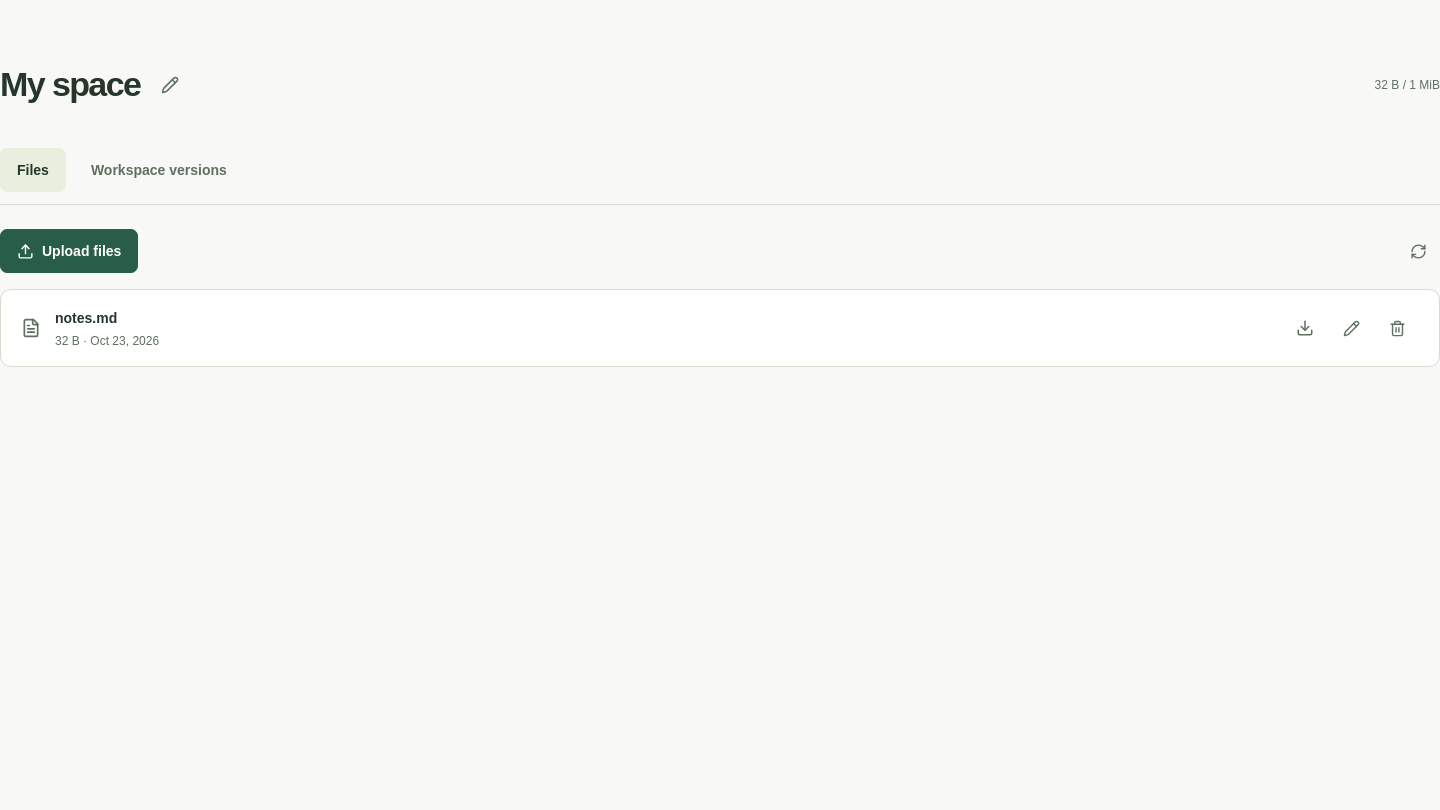
Test case: space user journeys › renames space and files without changing their immutable identity
The image size is (1440, 810).
Click the button named "Rename space".
click(170, 84)  # box [148, 62, 192, 106]
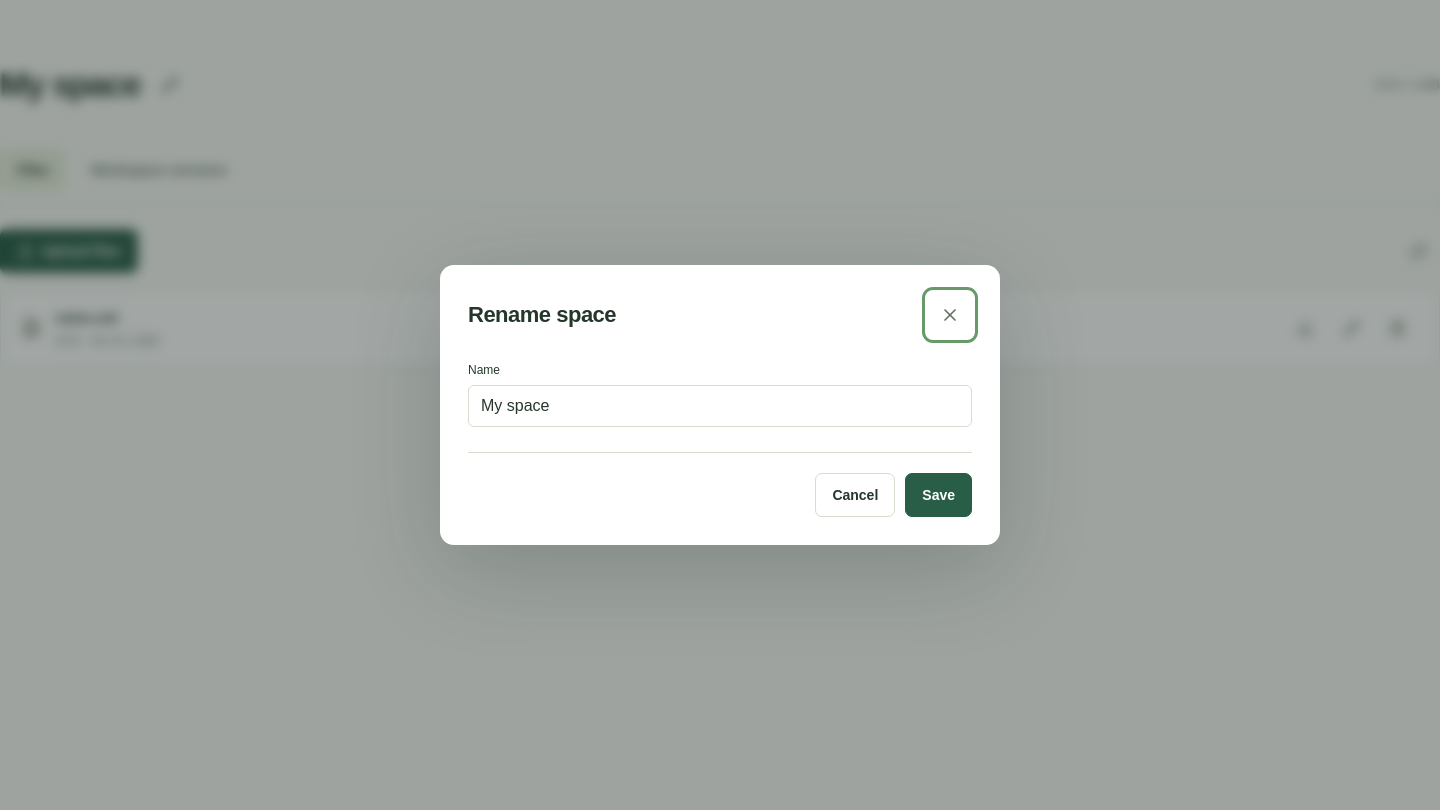
Replace the text in the field labelled "Name" with "Research" at {"x": 720, "y": 406}, box [468, 385, 972, 427]
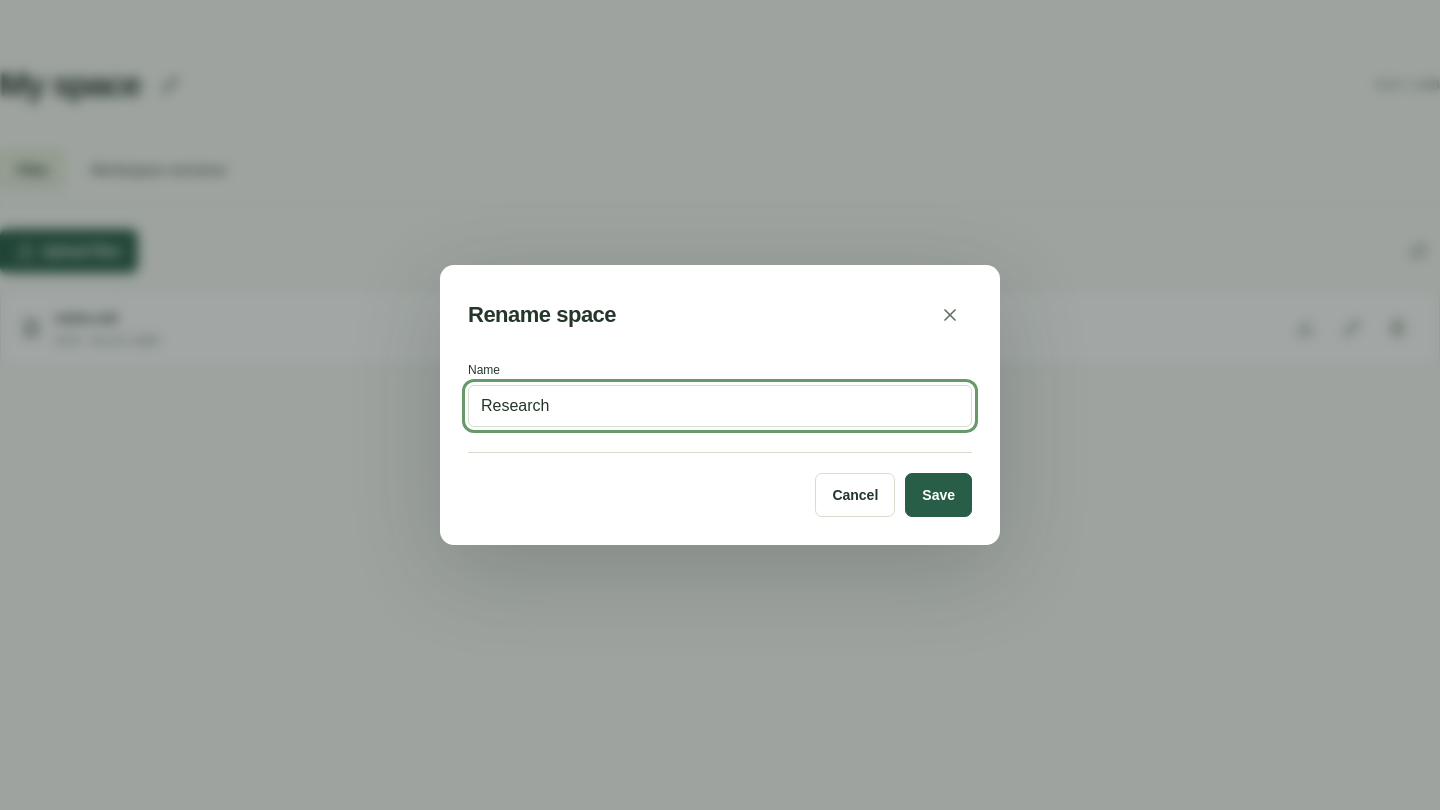
Click the button "Save".
click(939, 495)  # box [905, 473, 972, 517]
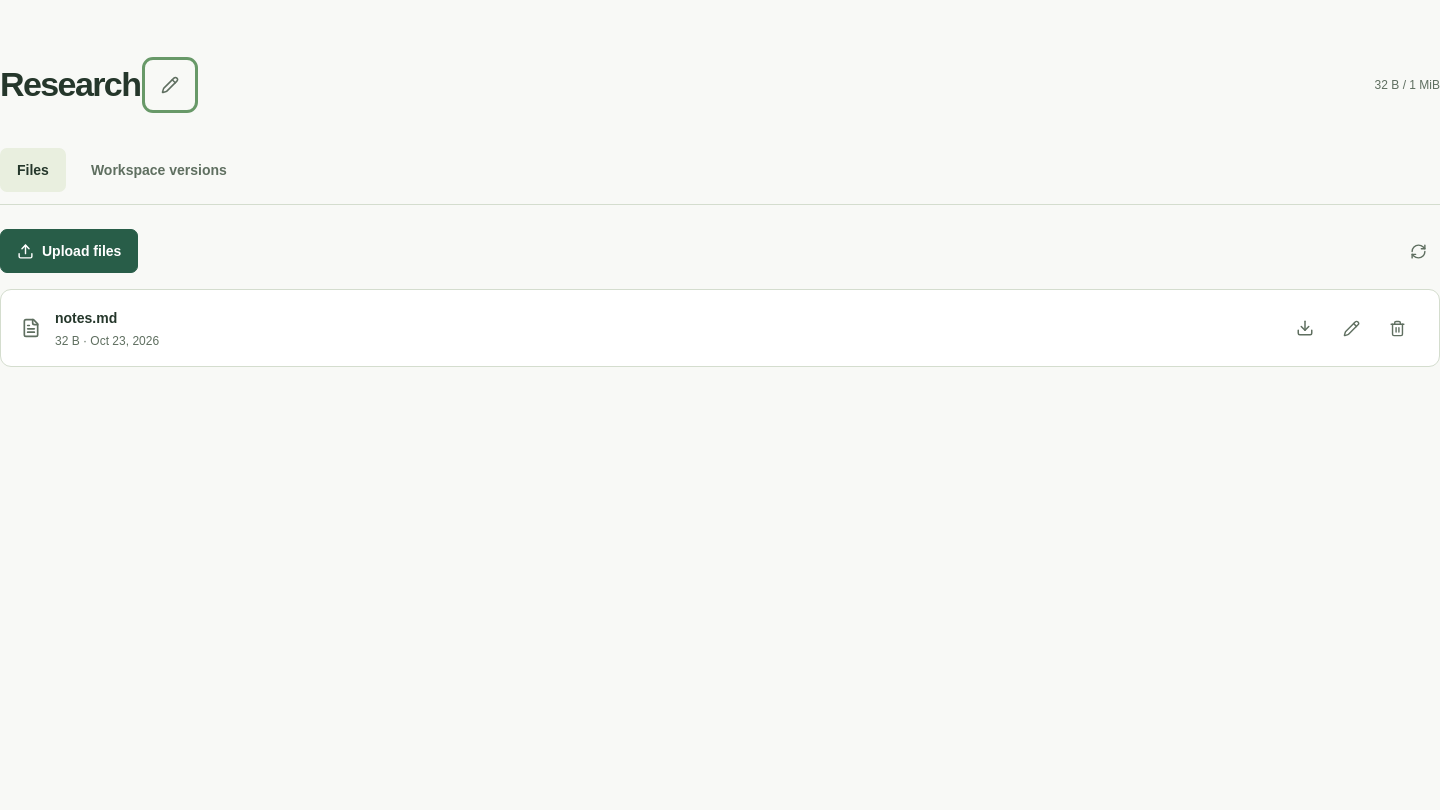
Expected: the heading "Research" is shown, [0, 65, 140, 104]
Click the button named "Rename notes.md".
click(1351, 328)  # box [1329, 306, 1373, 350]
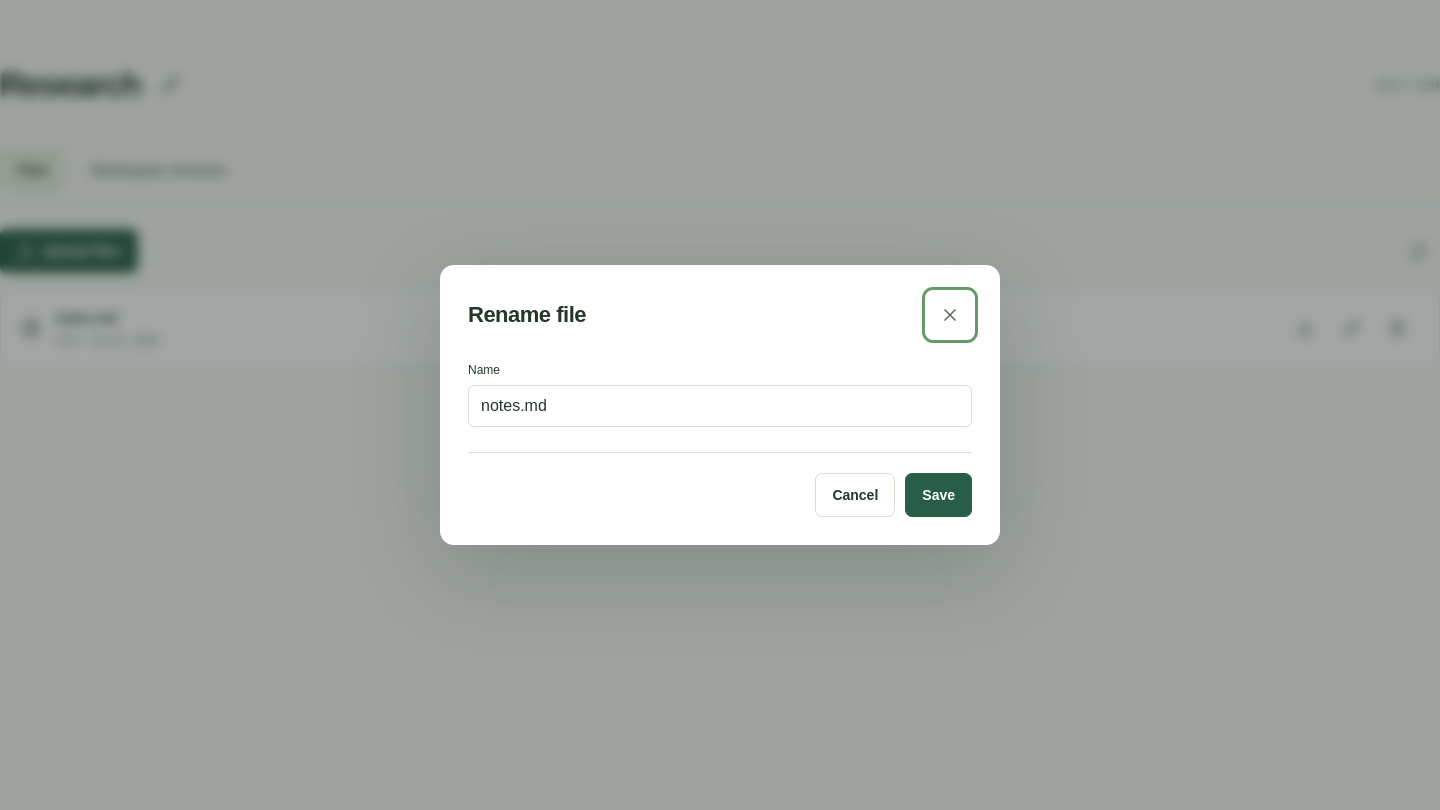
Replace the text in the field labelled "Name" with "renamed.md" at {"x": 720, "y": 406}, box [468, 385, 972, 427]
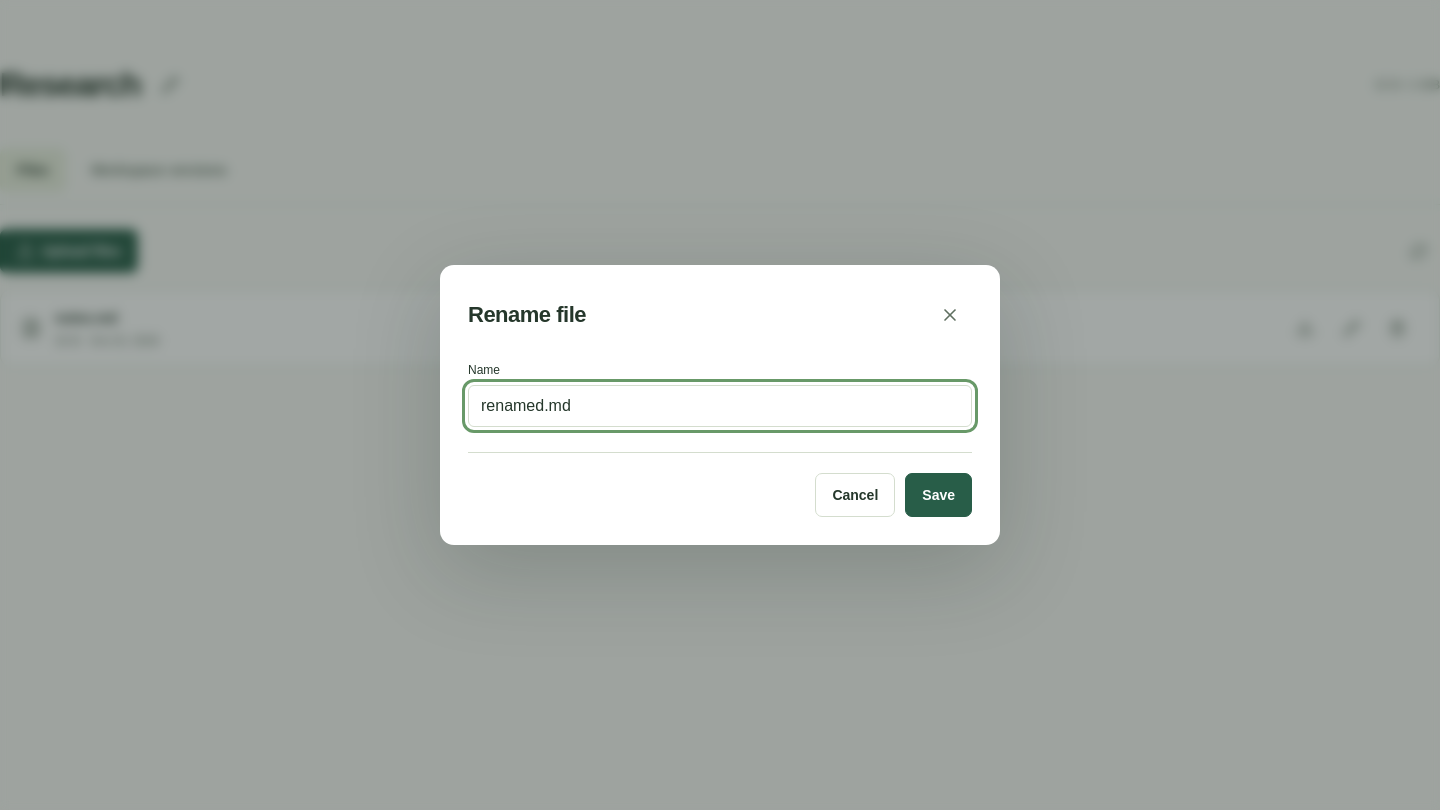
Click the button "Save".
click(939, 495)  # box [905, 473, 972, 517]
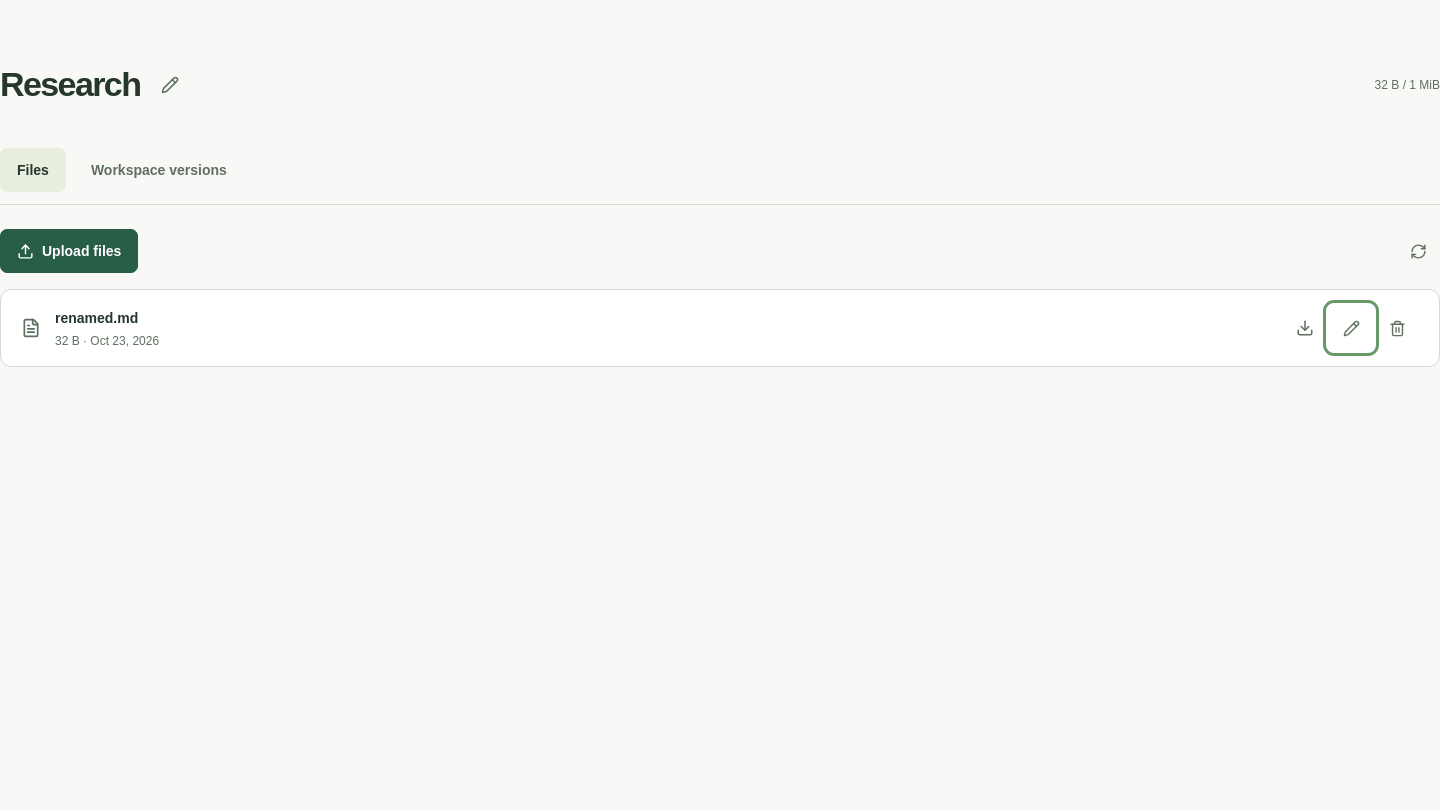
Expected: the text "renamed.md" is shown, [55, 310, 138, 326]
